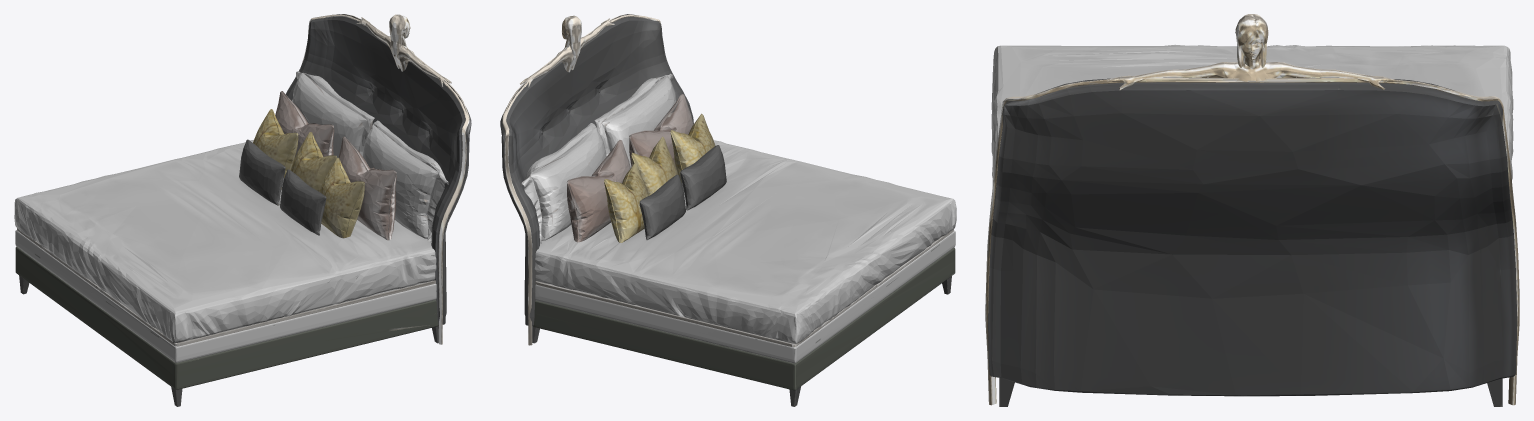
File: 2_6c185b06-6b95-45d0-bad2-fea9895e1e5a.obj
3 views of the same model, side by side, from view 1: azimuth 30°, elevation 25°; view 2: azimuth 150°, elevation 25°; view 3: azimuth 270°, elevation 25° (orthographic). The views are drawn at different scales.
Bounding box in the file's own units: 2 × 1.56 × 1.8.
1 material, 1 textured.
